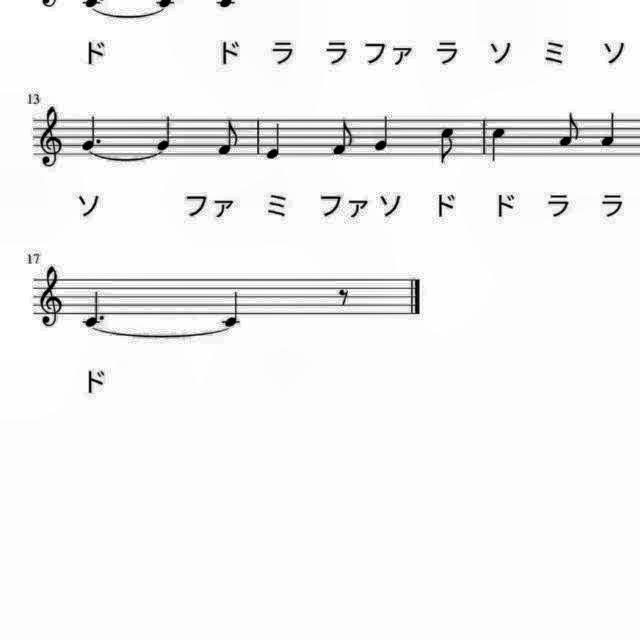Eighth-note: (328, 114, 360, 160), (552, 110, 584, 152), (213, 116, 243, 160), (435, 122, 461, 168)
Eighth-rest: (336, 284, 356, 312)
Half-dot: (78, 110, 110, 152)
Quarter-dot: (78, 285, 114, 329)
Quarter-note: (370, 112, 398, 156), (218, 288, 246, 330), (264, 118, 288, 164), (597, 109, 623, 151), (153, 113, 179, 155), (488, 124, 512, 166)
Treble-clef: (32, 262, 68, 331), (34, 104, 68, 172)
